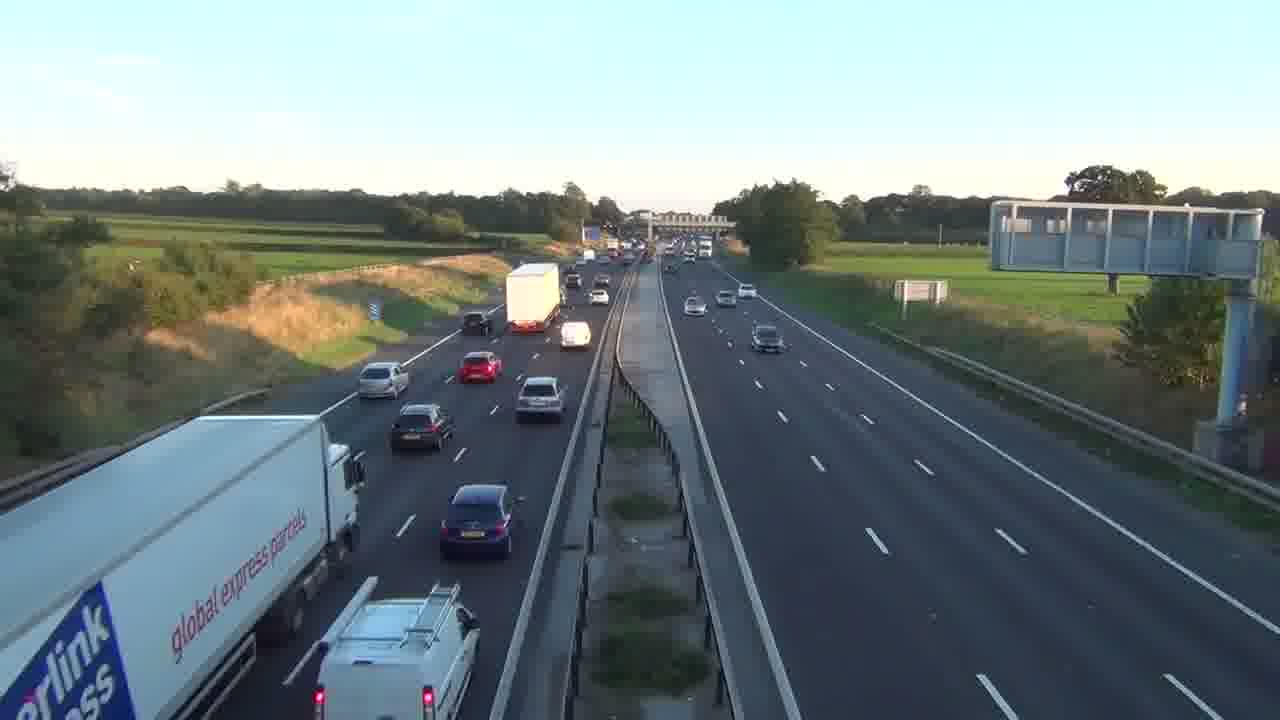car: (439, 483, 514, 560), (389, 402, 453, 453), (514, 375, 565, 424), (357, 361, 409, 399), (458, 350, 503, 384), (716, 289, 737, 308)
truck: (1, 402, 365, 715), (312, 579, 482, 718), (505, 262, 562, 335)
